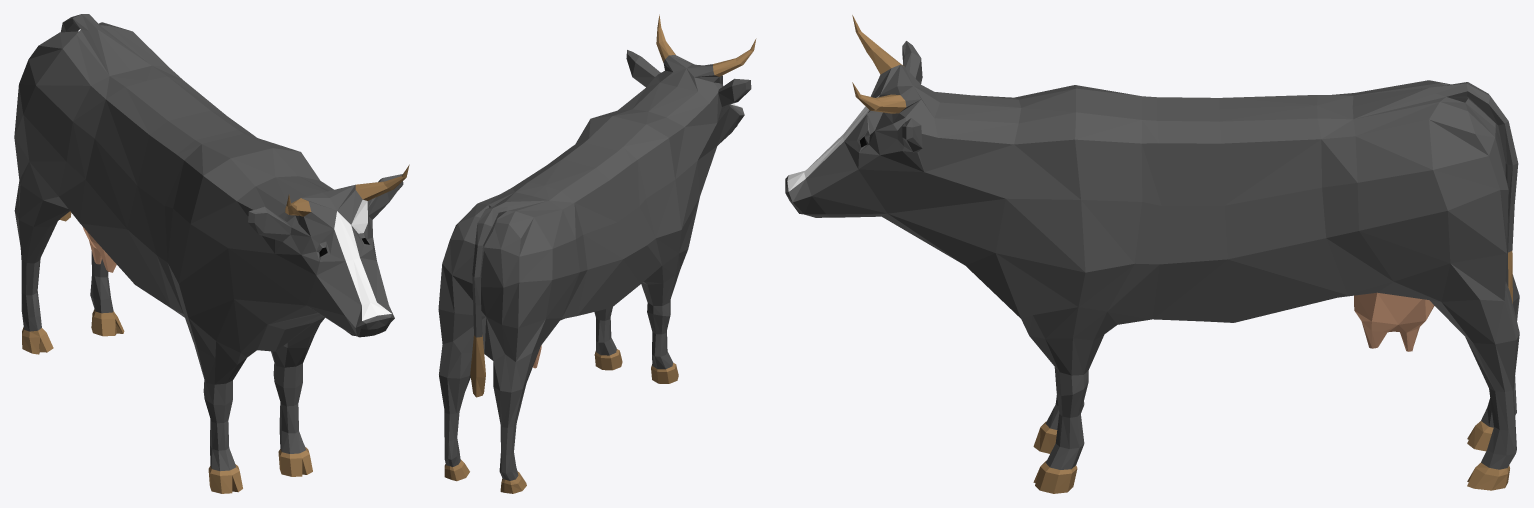
The model's file is Cow_noanim.glb.
The picture shows the model from 3 angles, left to right: view 1: azimuth 30°, elevation 25°; view 2: azimuth 150°, elevation 25°; view 3: azimuth 270°, elevation 25°; orthographic projection. The views are drawn at different scales.
Bounding box in the file's own units: 0.8098 × 1.82 × 2.89.
